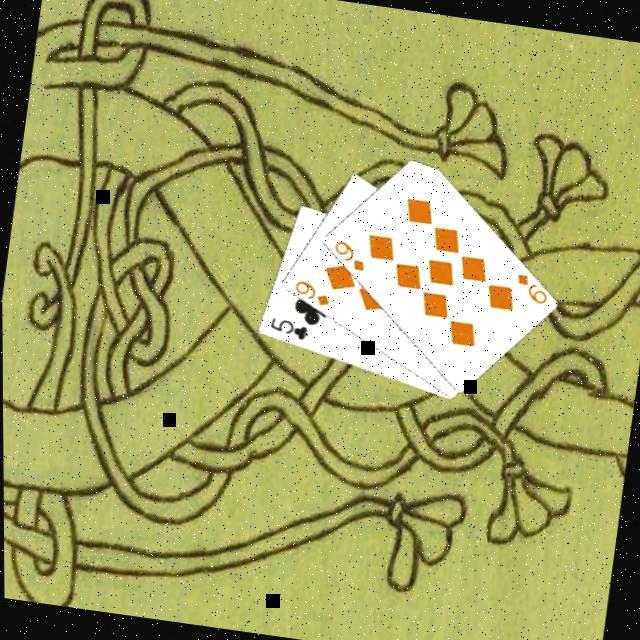5C: (263, 314, 311, 344)
9D: (508, 270, 550, 309), (326, 238, 368, 276), (288, 277, 333, 311)
